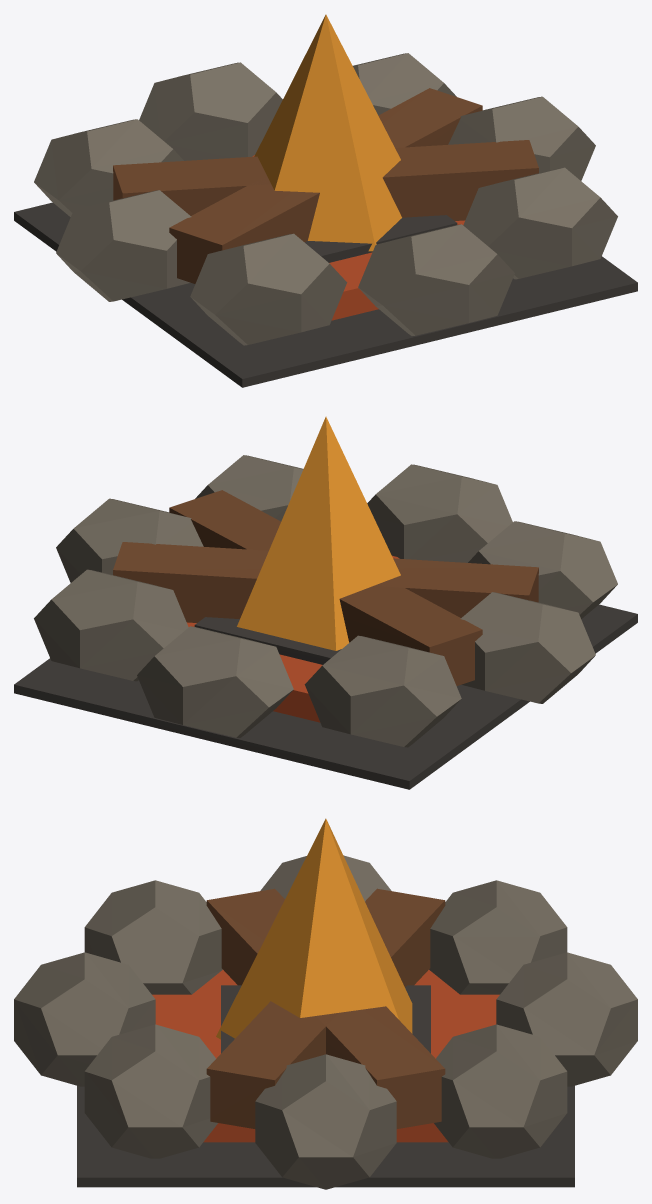
The model's file is Campfire.glb.
3 renders of one model, top to bottom at view 1: azimuth 30°, elevation 25°; view 2: azimuth 150°, elevation 25°; view 3: azimuth 270°, elevation 25°, orthographic. The views are drawn at different scales.
Visible parts, largest first — view 1: campfire-static-campfire-ring-stone, campfire-static-campfire-split-log, campfire-static-campfire-dark-ash, campfire-static-campfire-layered-flame, campfire-static-campfire-ember-bed; view 2: campfire-static-campfire-ring-stone, campfire-static-campfire-split-log, campfire-static-campfire-dark-ash, campfire-static-campfire-layered-flame, campfire-static-campfire-ember-bed; view 3: campfire-static-campfire-ring-stone, campfire-static-campfire-split-log, campfire-static-campfire-dark-ash, campfire-static-campfire-layered-flame, campfire-static-campfire-ember-bed.
Part boxes in pixels (<box>): campfire-static-campfire-ring-stone: <box>34,53,617,345</box>; campfire-static-campfire-split-log: <box>113,88,538,283</box>; campfire-static-campfire-dark-ash: <box>14,202,637,387</box>; campfire-static-campfire-layered-flame: <box>254,14,401,251</box>; campfire-static-campfire-ember-bed: <box>252,155,464,320</box>; campfire-static-campfire-ring-stone: <box>34,455,617,747</box>; campfire-static-campfire-split-log: <box>113,490,538,685</box>; campfire-static-campfire-dark-ash: <box>14,604,637,789</box>; campfire-static-campfire-layered-flame: <box>237,416,400,650</box>; campfire-static-campfire-ember-bed: <box>187,555,399,722</box>; campfire-static-campfire-ring-stone: <box>14,855,637,1189</box>; campfire-static-campfire-split-log: <box>206,888,445,1128</box>; campfire-static-campfire-dark-ash: <box>77,985,574,1187</box>; campfire-static-campfire-layered-flame: <box>216,818,412,1039</box>; campfire-static-campfire-ember-bed: <box>152,970,499,1142</box>.
Size of the model in its own units: 2.48 by 1.11 by 2.38.
